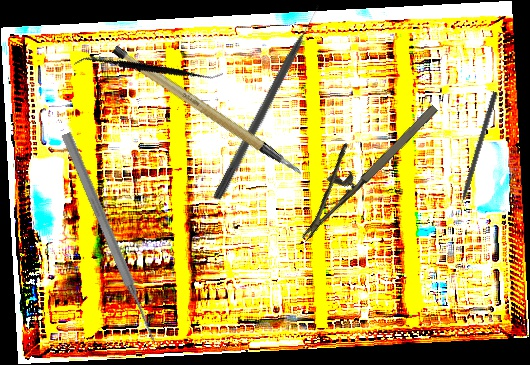Needle Holder: (275, 82, 442, 242)
Pusher: (211, 3, 326, 203), (58, 131, 161, 344), (452, 90, 499, 221)
Scalpel Handle: (109, 22, 304, 204)
Spatula Surgical: (73, 7, 224, 131)
